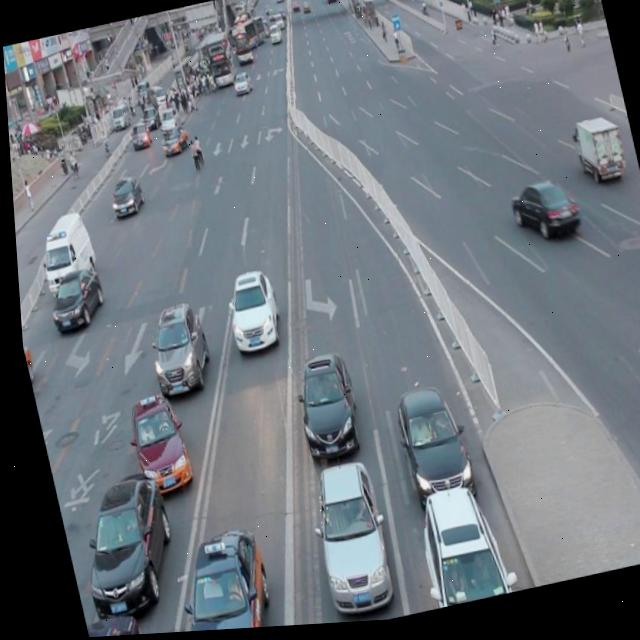bus: (568, 118, 625, 192)
car: (61, 463, 179, 620), (294, 459, 393, 625), (402, 482, 506, 615), (151, 523, 272, 634), (383, 383, 472, 517), (280, 351, 360, 467), (116, 390, 189, 501), (135, 300, 212, 404), (215, 267, 281, 360), (502, 178, 578, 249), (39, 264, 106, 336), (103, 173, 144, 221), (75, 609, 139, 638)
truck: (30, 209, 98, 298)
